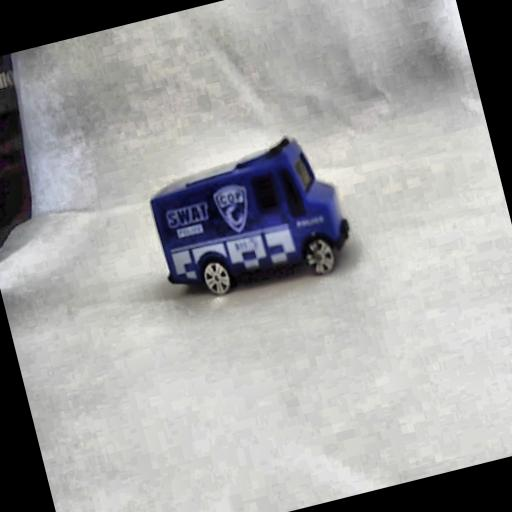police car: (132, 131, 362, 320)
